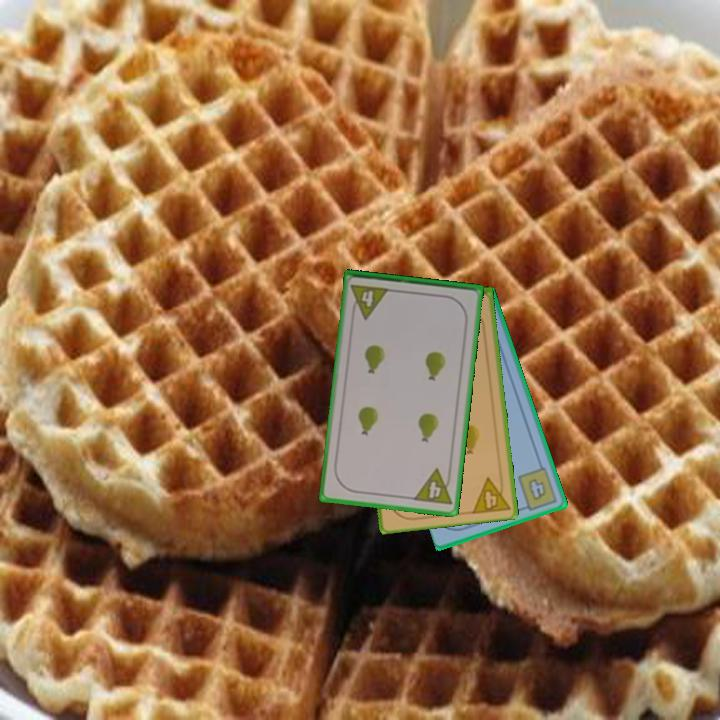4b: (514, 464, 560, 514)
4p: (468, 471, 513, 516), (410, 465, 455, 508), (347, 281, 392, 322)
